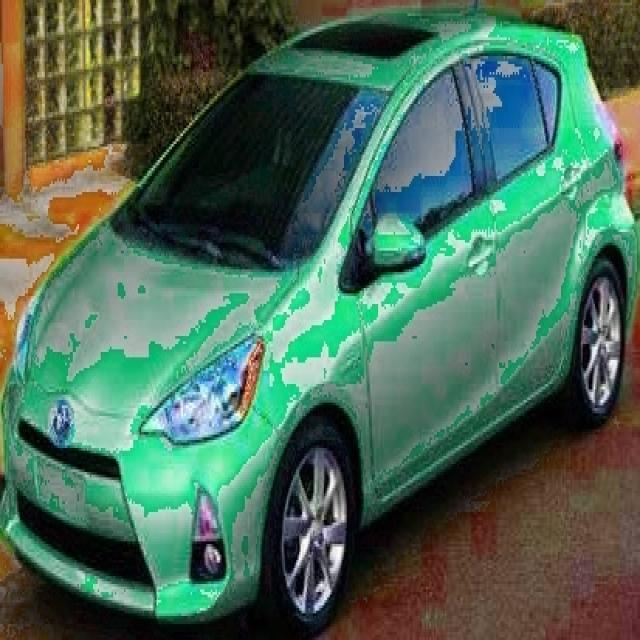green: (4, 15, 636, 636)
